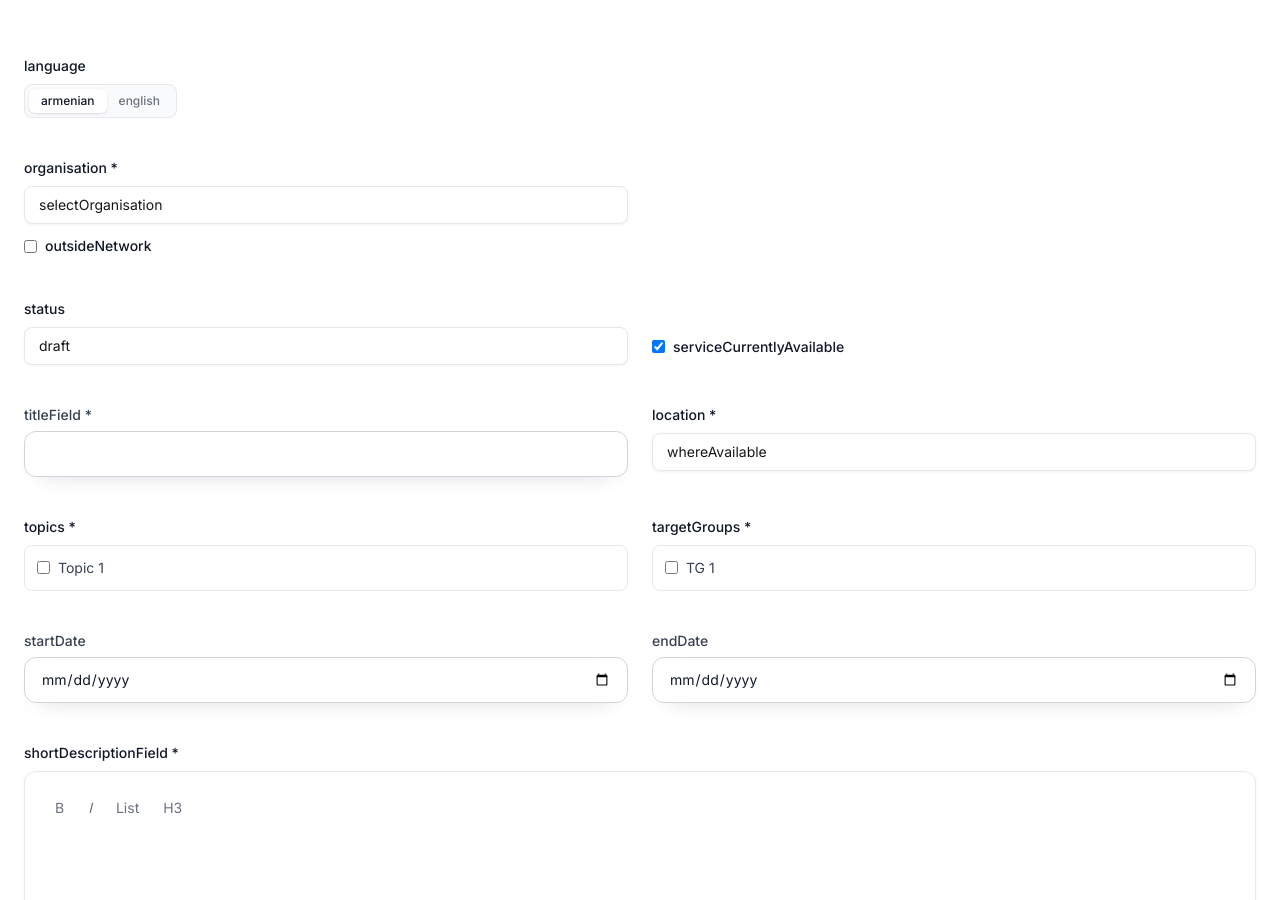
Test: ServiceForm › reveals a required organisation name field when "outside network" is checked
Check: the text "organisationName" is not shown
Click the checkbox labelled "outsideNetwork".
click(30, 246)  # box [24,240,37,252]
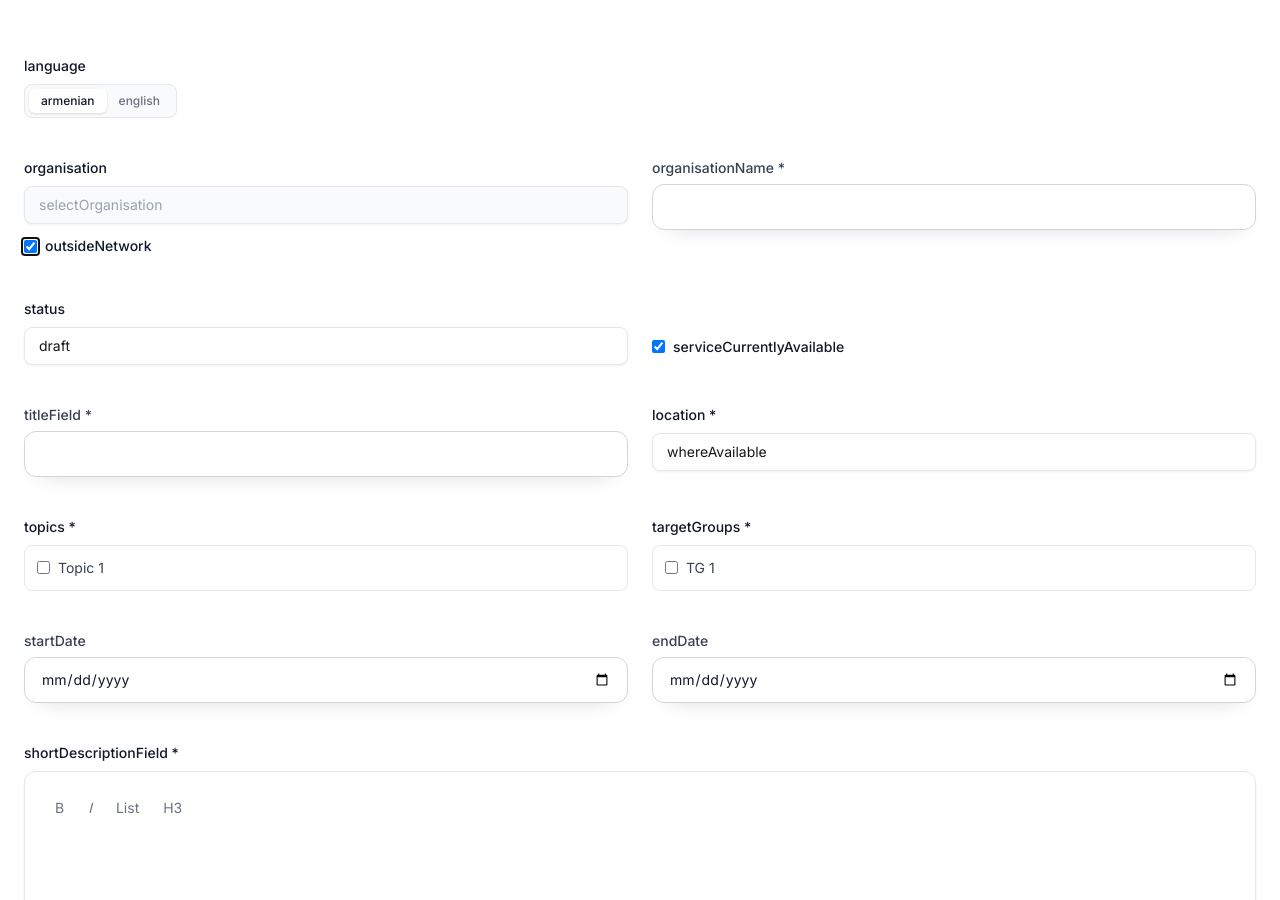
Check: the text "organisationName *" is shown, box [652,159,785,176]
Check: the dropdown named "organisation" is disabled, box [24,186,628,224]
